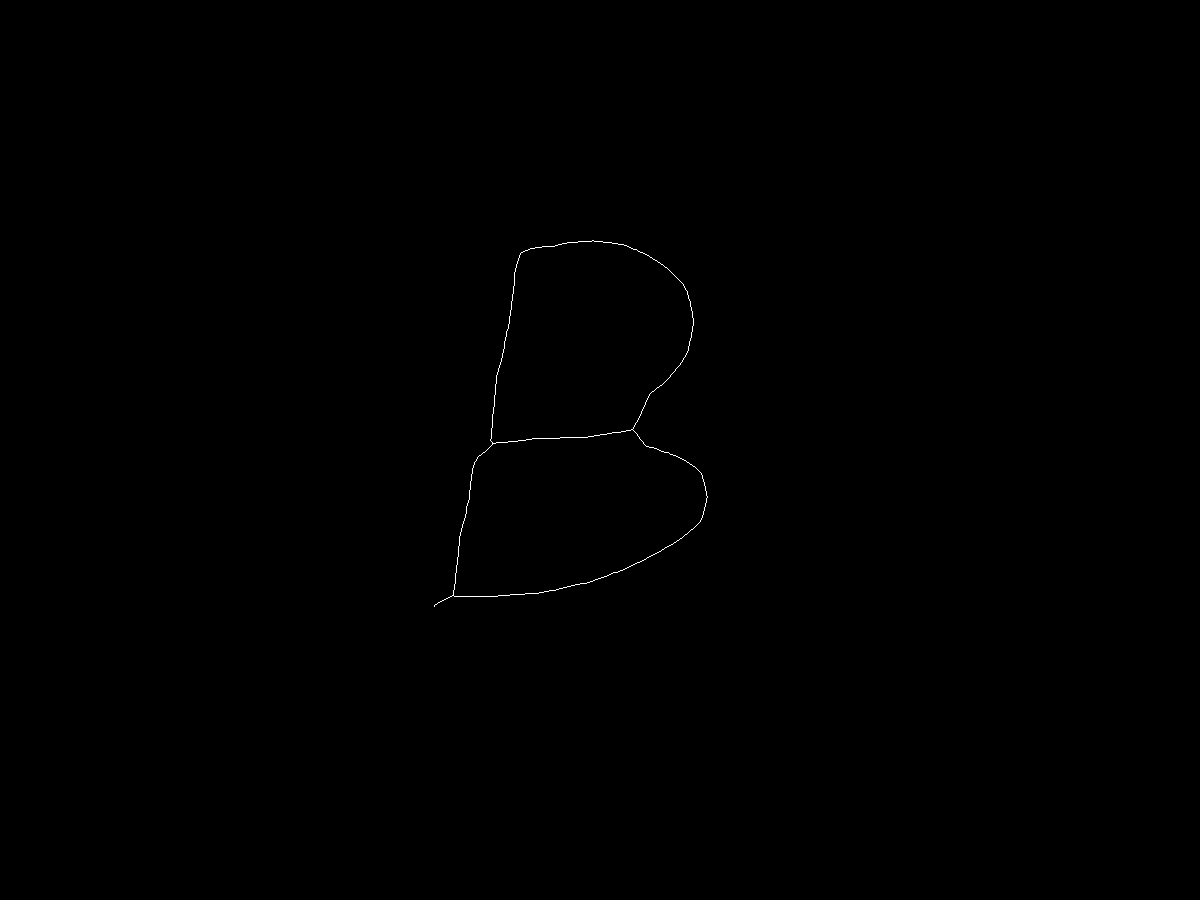dian1: (510, 249, 529, 268)
dian2: (479, 436, 496, 453)
dian3: (446, 587, 464, 605)
dian4: (623, 419, 642, 438)
